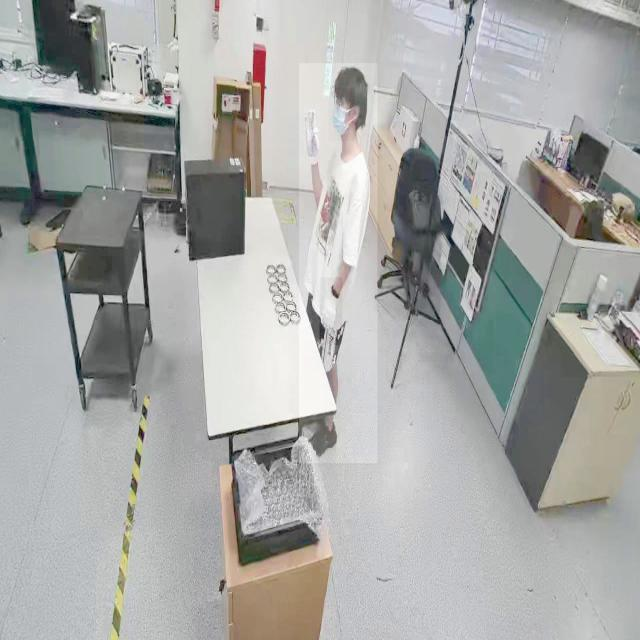face_mask: (329, 88, 355, 141)
hand_glove: (319, 277, 343, 346), (304, 107, 322, 173)
head_nohelmet: (334, 65, 368, 89)
person: (299, 63, 378, 464)
shoes: (307, 415, 339, 461)
